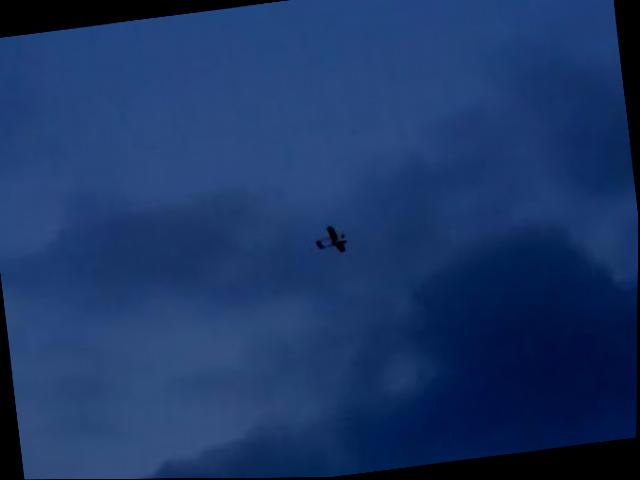uav: (309, 220, 353, 258)
